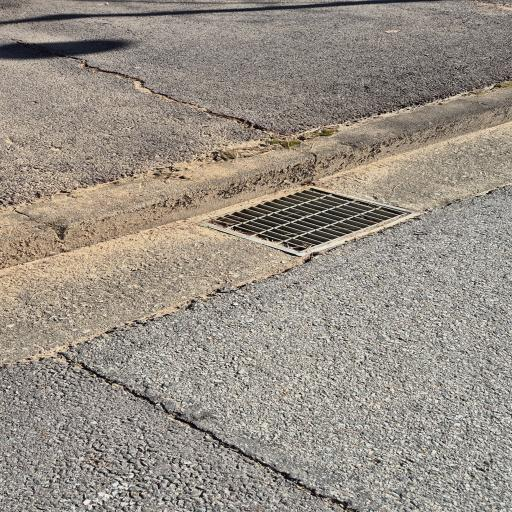drain: (202, 187, 411, 256)
